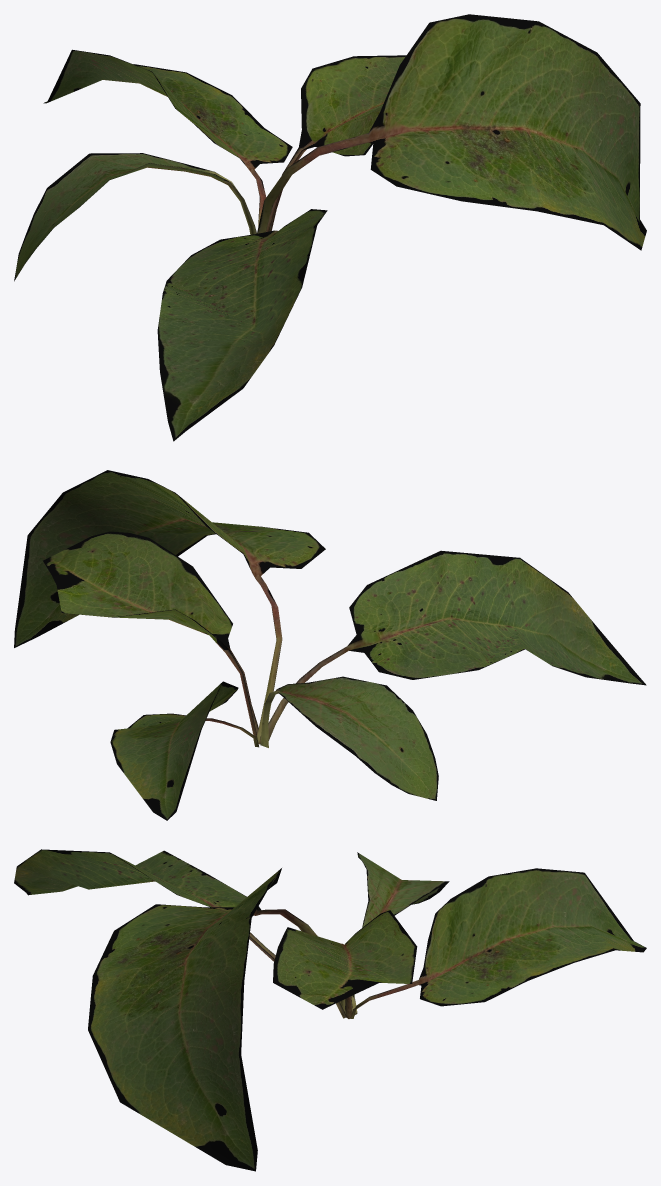
Rendered from weed_plant_02_1k3.glb.
3 views of the same model, one above another, from view 1: azimuth 30°, elevation 25°; view 2: azimuth 150°, elevation 25°; view 3: azimuth 270°, elevation 25° (orthographic). The views are drawn at different scales.
Visible parts, largest first — view 1: weed_plant_02_c_LOD2; view 2: weed_plant_02_c_LOD2; view 3: weed_plant_02_c_LOD2.
Part boxes in pixels (x1,y1,x2,y2): weed_plant_02_c_LOD2: (14,14,646,441); weed_plant_02_c_LOD2: (14,470,646,820); weed_plant_02_c_LOD2: (14,849,646,1171).
Bounding box in the file's own units: 0.1424 × 0.0547 × 0.1435.
Materials: 1 (1 with a texture image).
